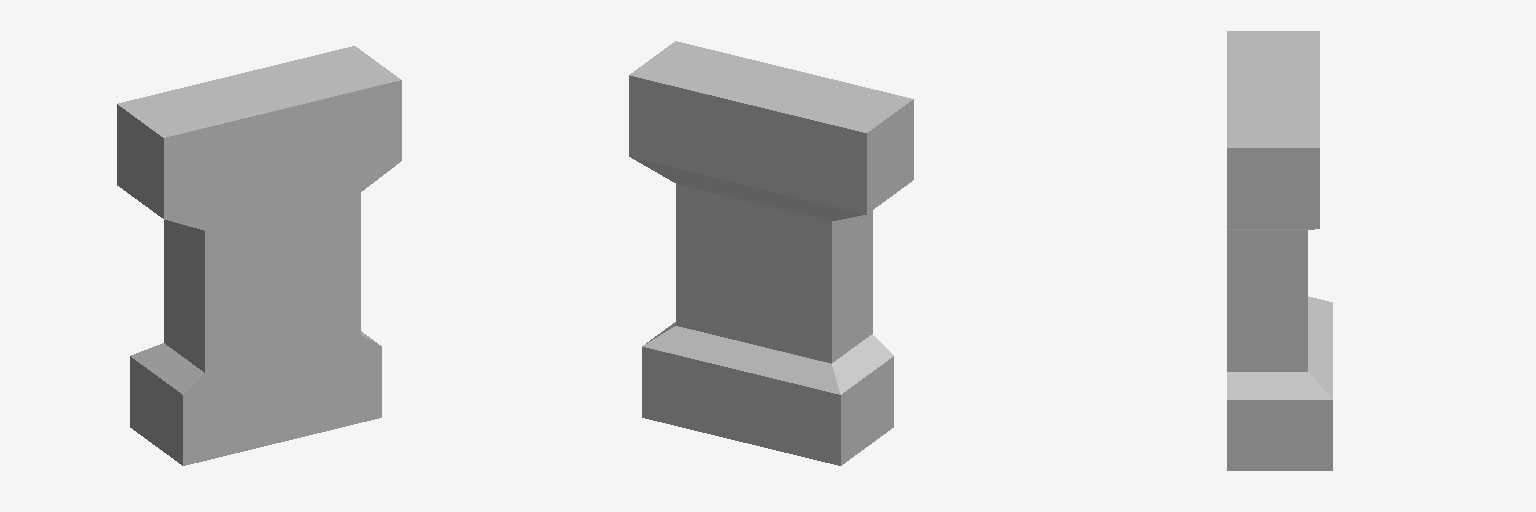
The model's file is 1-totem.obj.
The picture shows the model from 3 angles: view 1: azimuth 30°, elevation 25°; view 2: azimuth 150°, elevation 25°; view 3: azimuth 270°, elevation 25°; orthographic projection.
Size of the model in its own units: 2.39 by 3.2 by 0.9292.